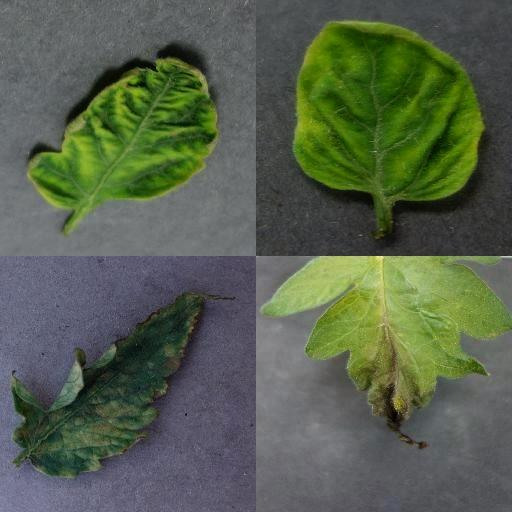Late Blight: (258, 256, 512, 451)
Leaf Mold: (10, 289, 206, 481)
Yellow Leaf Curl Virus: (295, 20, 487, 202), (26, 56, 218, 210)
